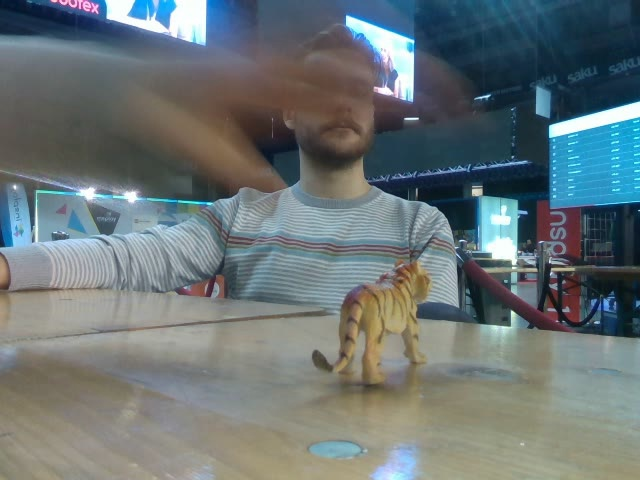toy: (310, 262, 432, 383)
